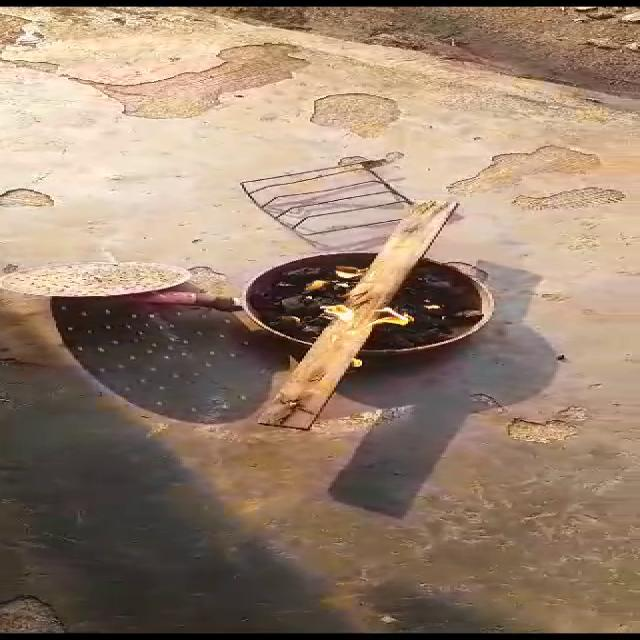Fire: (308, 298, 417, 336)
